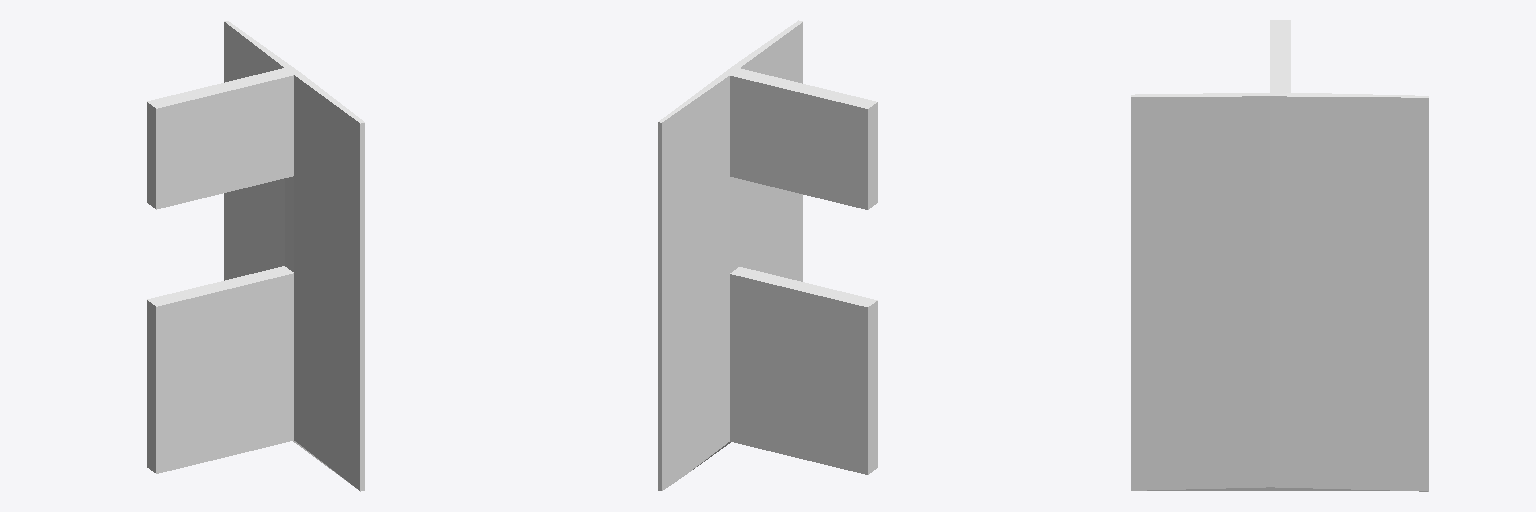
The robot description file, URDF, robot "less_tight_env":
<?xml version="1.0" ?>
<robot name="less_tight_env">
    <link name="less_tight_env-acd" type="static">
        <contact>
            <lateral_friction value="100000.0"/>
            <rolling_friction value="0.0"/>
        </contact>
        <inertial>
            <mass value="0"/>
            <inertia ixx="0" ixy="0" ixz="0" iyy="0" iyz="0" izz="0"/>
        </inertial>


        <visual>
            <geometry>
                <mesh filename="less_tight_env-acd.obj"/>
            </geometry>
            <material name="white">
                <color rgba="1 1 1 1"/>
            </material>
        </visual>

        <collision>
            <geometry>
                <mesh filename="less_tight_env-acd.obj"/>
            </geometry>
        </collision>
    </link>
</robot>

--- Render facts (derived) ---
The picture shows the robot from 3 angles, left to right: view 1: azimuth 30°, elevation 25°; view 2: azimuth 150°, elevation 25°; view 3: azimuth 270°, elevation 25°; orthographic projection.
Model less_tight_env with 1 links and 0 joints (none), rooted at less_tight_env-acd, posed all joints at 0.
Visible links, largest first — view 1: less_tight_env-acd; view 2: less_tight_env-acd; view 3: less_tight_env-acd.
Boxes of the visible links, <box> form: less_tight_env-acd: <box>147,21,364,491</box>; less_tight_env-acd: <box>658,20,877,490</box>; less_tight_env-acd: <box>1131,20,1428,491</box>.
Bounding box of the posed robot: 0.9115 × 1.51 × 2.21 m (x, y, z).
Meshes: 1 distinct files referenced, 1 mesh visuals loaded (1 OBJ).